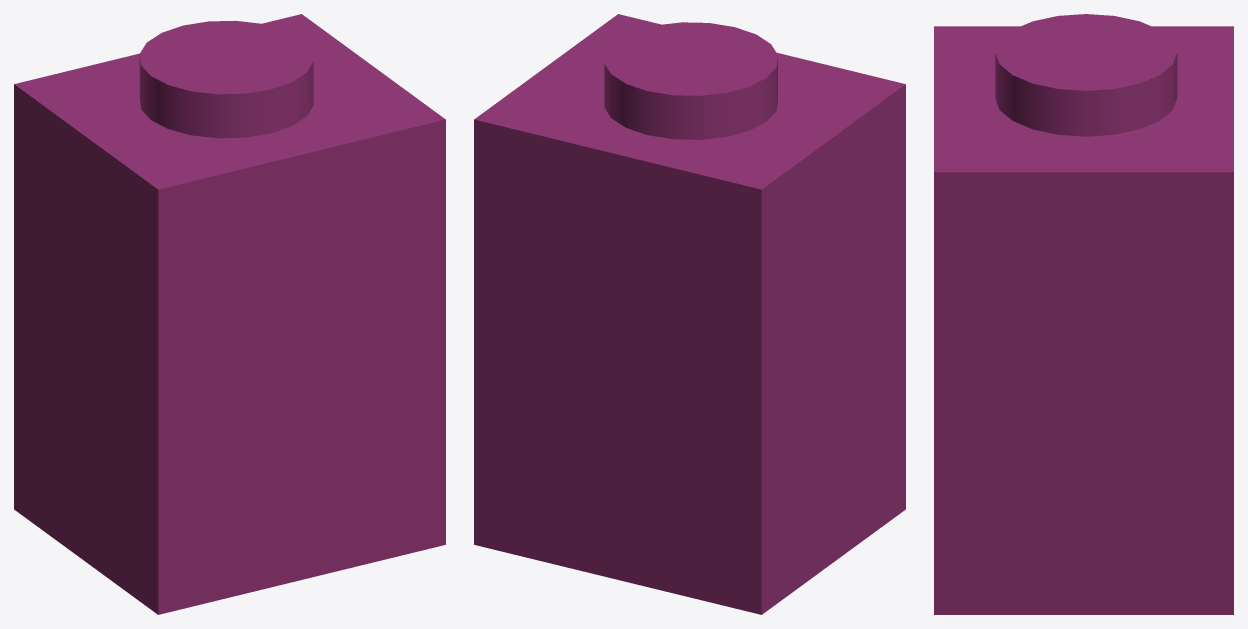
The model's file is 1x1_Purple.fbx.
3 renders of one model, left to right at view 1: azimuth 30°, elevation 25°; view 2: azimuth 150°, elevation 25°; view 3: azimuth 270°, elevation 25°, orthographic. The views are drawn at different scales.
Parts seen in each view (by area): view 1: LegoBrick_2x1_Purple3, pCylinder37; view 2: LegoBrick_2x1_Purple3, pCylinder37; view 3: LegoBrick_2x1_Purple3, pCylinder37.
Part boxes in pixels (x1,y1,x2,y2): LegoBrick_2x1_Purple3: (14,14,445,614); pCylinder37: (139,20,313,138); LegoBrick_2x1_Purple3: (474,14,905,614); pCylinder37: (604,22,777,139); LegoBrick_2x1_Purple3: (934,26,1233,614); pCylinder37: (995,14,1177,136).
Bounding box in the file's own units: 0.4583 × 0.7147 × 0.3977.
